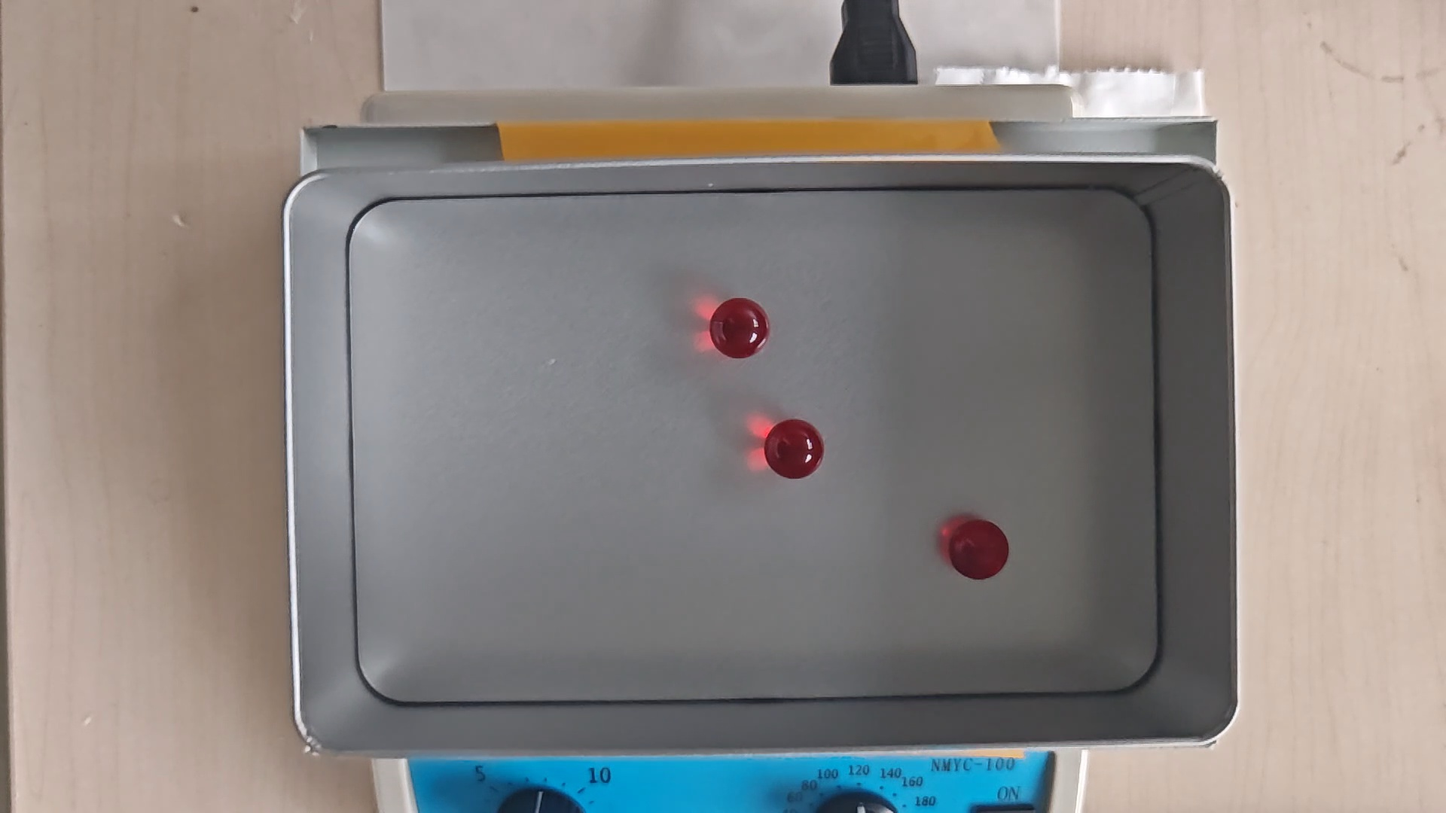ball: (950, 519, 1011, 581), (764, 419, 826, 479), (708, 298, 767, 358)
container: (351, 189, 1157, 700)
